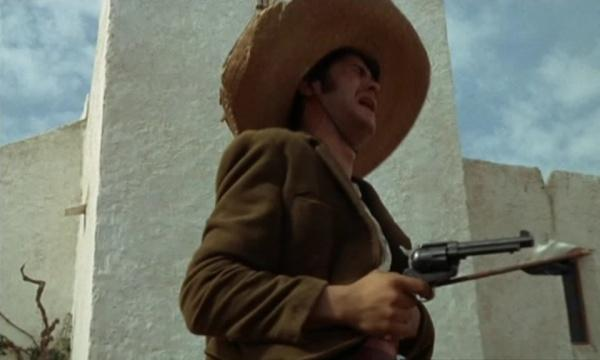Gun: (401, 226, 536, 305)
